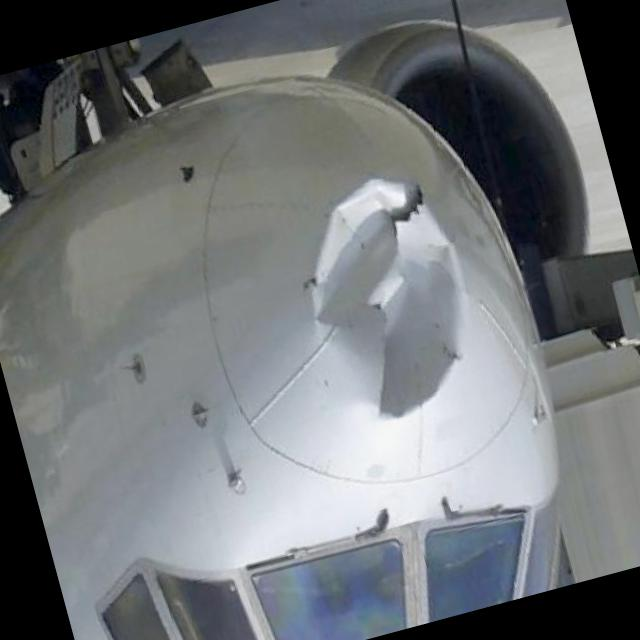crack: (386, 188, 424, 244)
dent: (309, 172, 467, 420)
